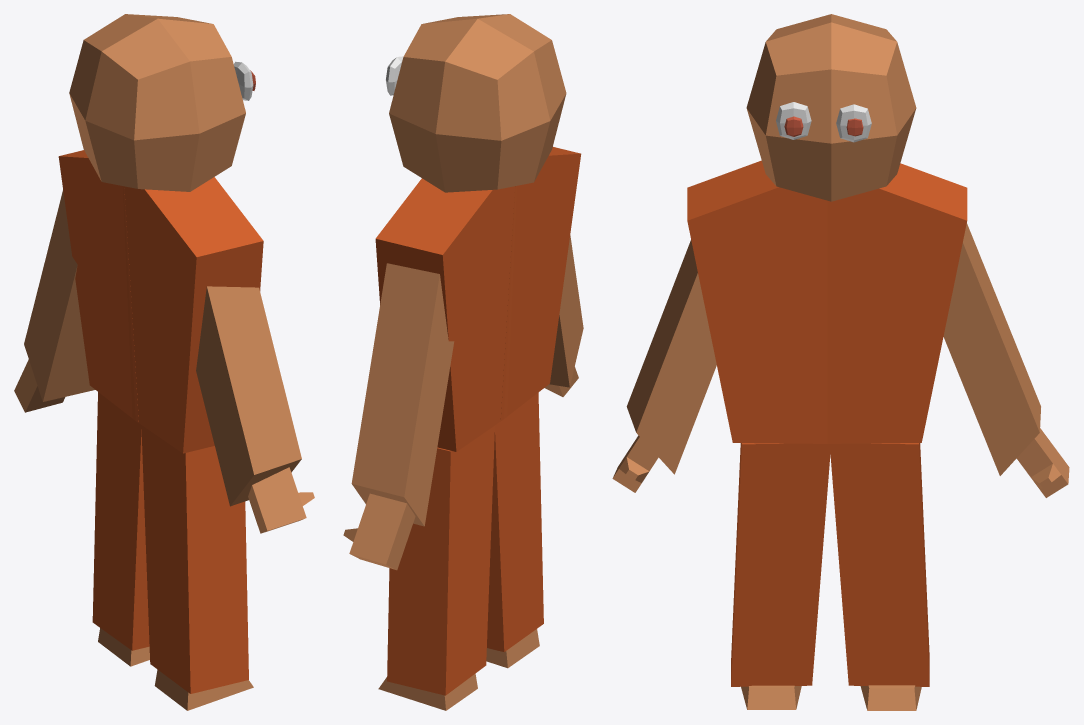
Rendered from aldeao.fbx.
3 views of the same model, side by side, from view 1: azimuth 30°, elevation 25°; view 2: azimuth 150°, elevation 25°; view 3: azimuth 270°, elevation 25° (orthographic).
Parts seen in each view (by area): view 1: Cube; view 2: Cube; view 3: Cube.
Part boxes in pixels (x1=…): Cube: x1=14, y1=14, x2=314, y2=710; Cube: x1=343, y1=14, x2=583, y2=710; Cube: x1=612, y1=14, x2=1069, y2=710.
Size of the model in its own units: 2.13 by 8.92 by 5.57.
